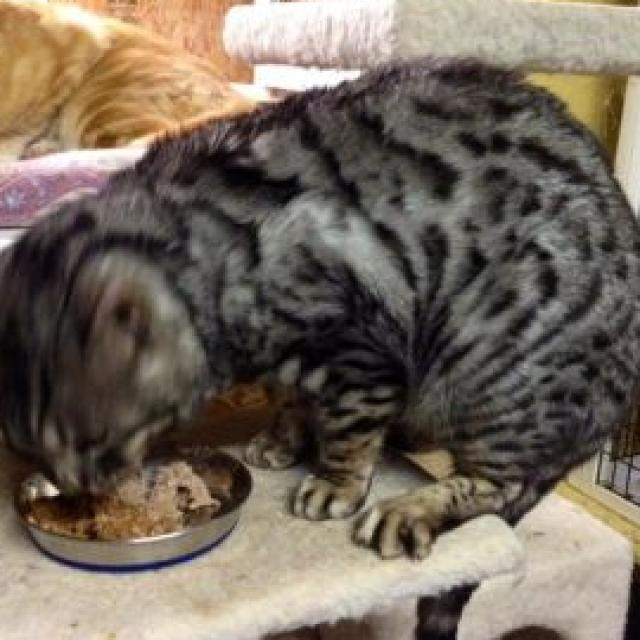Bengal: (0, 46, 640, 569)
